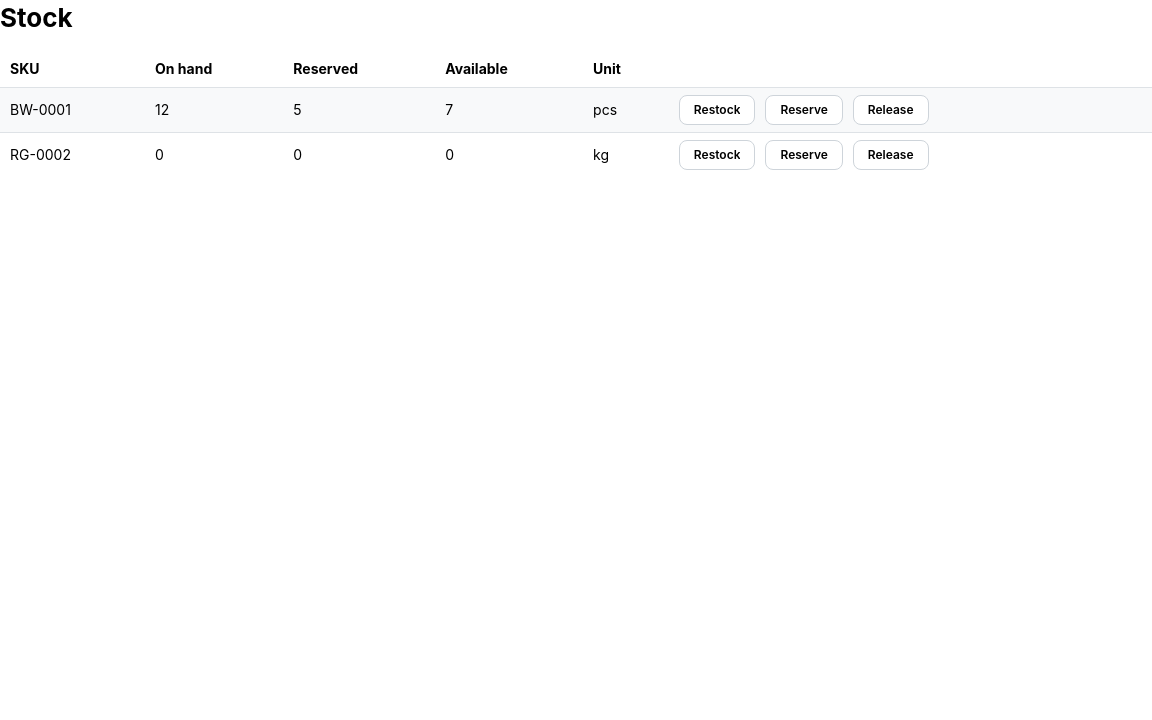
Test: StockScreen › restocks, closes the modal and shows the new on hand and available Stock
The image size is (1152, 720).
Click the button "Restock" in the row of "RG-0002" at (717, 155), box top-left (679, 140), bottom-right (756, 170)
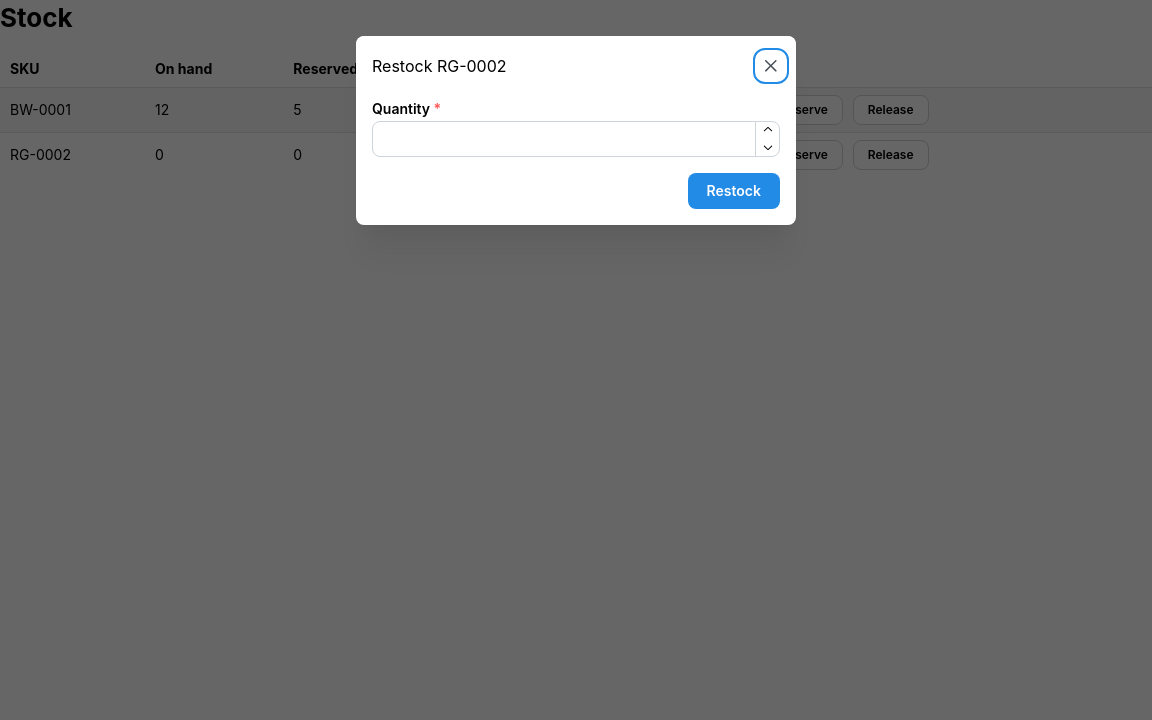
Type "10" into the field labelled "Quantity *" at (576, 139), box top-left (372, 121), bottom-right (780, 157)
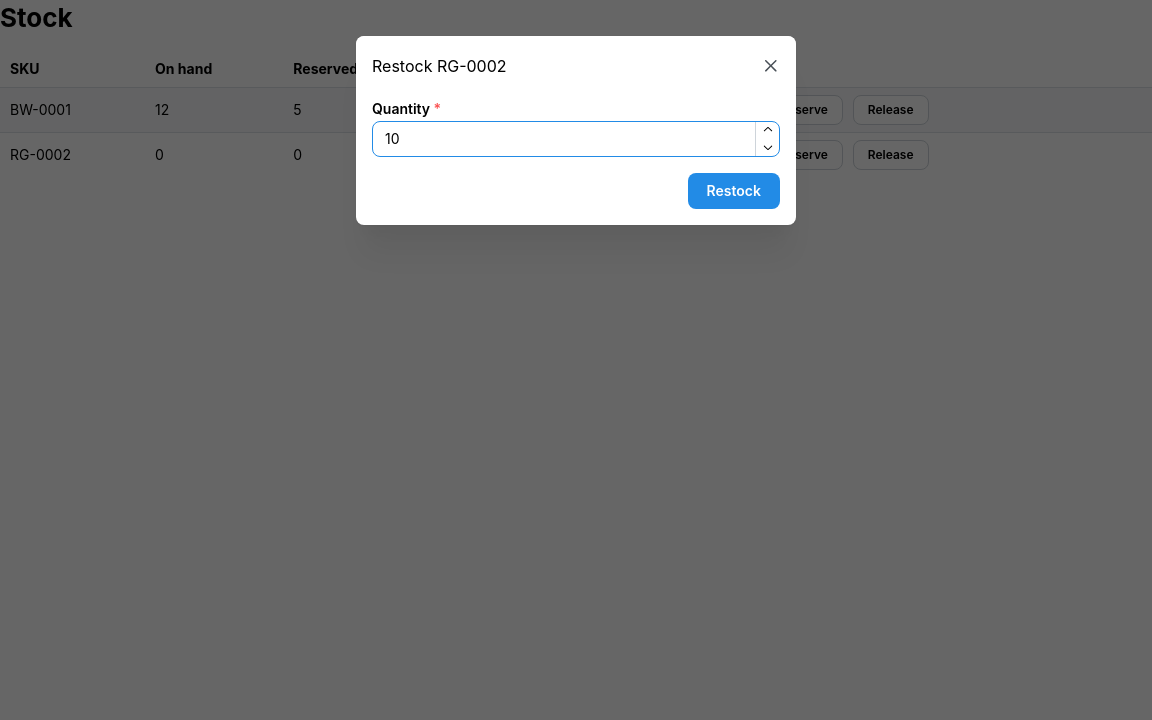
Click the button "Restock" at (734, 191), box top-left (688, 173), bottom-right (780, 209)
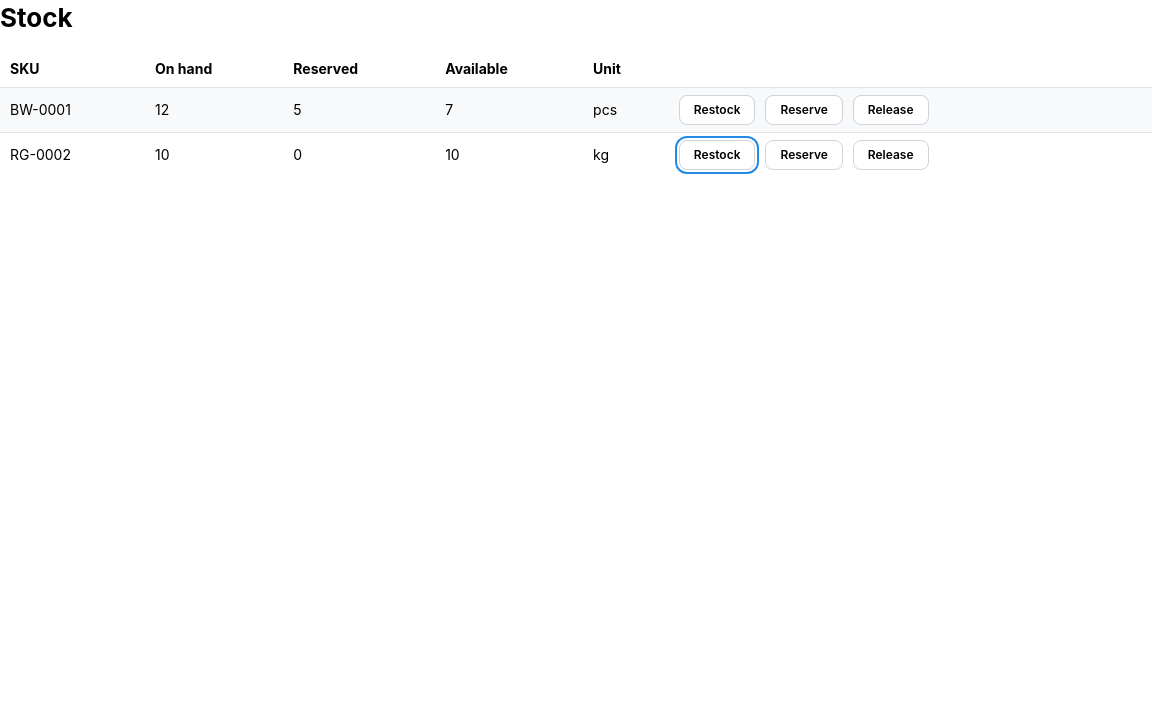
Now the dialog is gone
